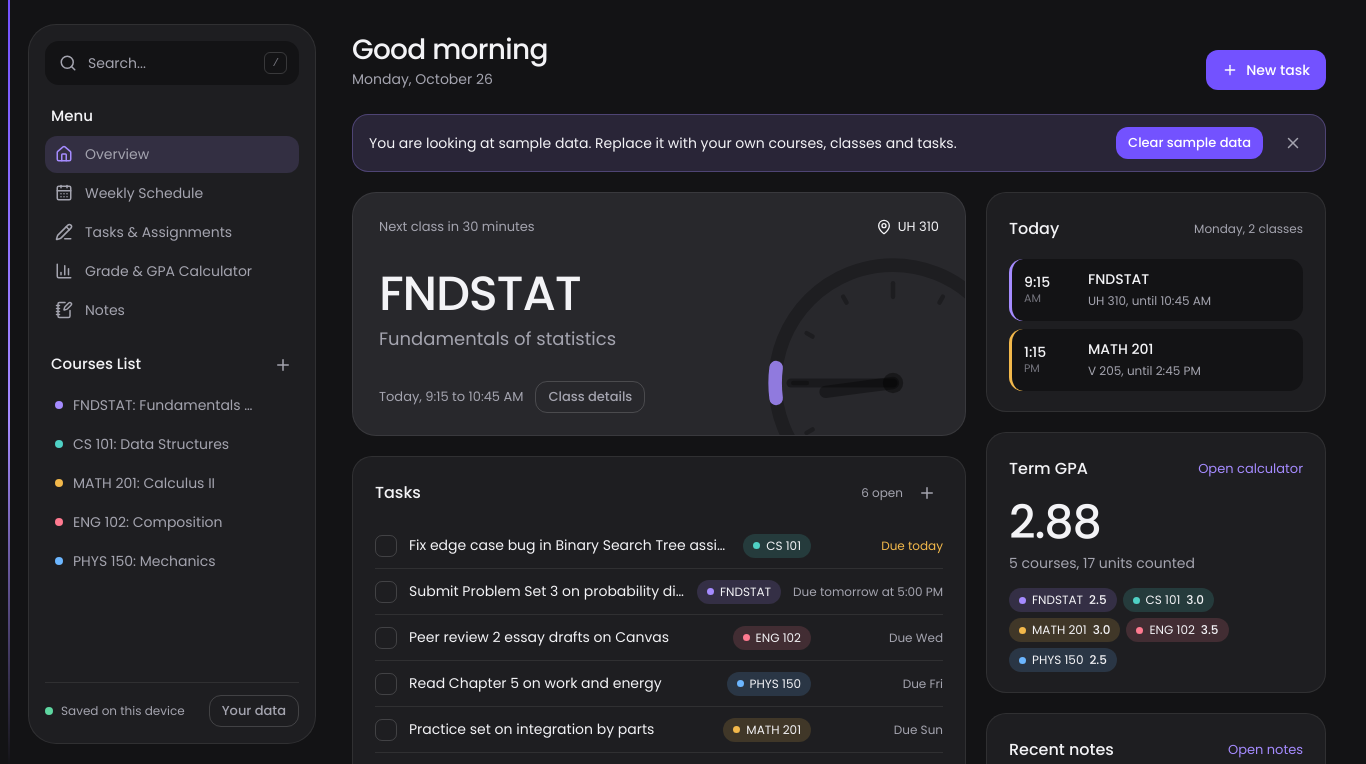
Test: Overview › clears the sample data from the banner, with undo
Click the button "Clear sample data" at (1190, 143), box [1116,127,1263,159]
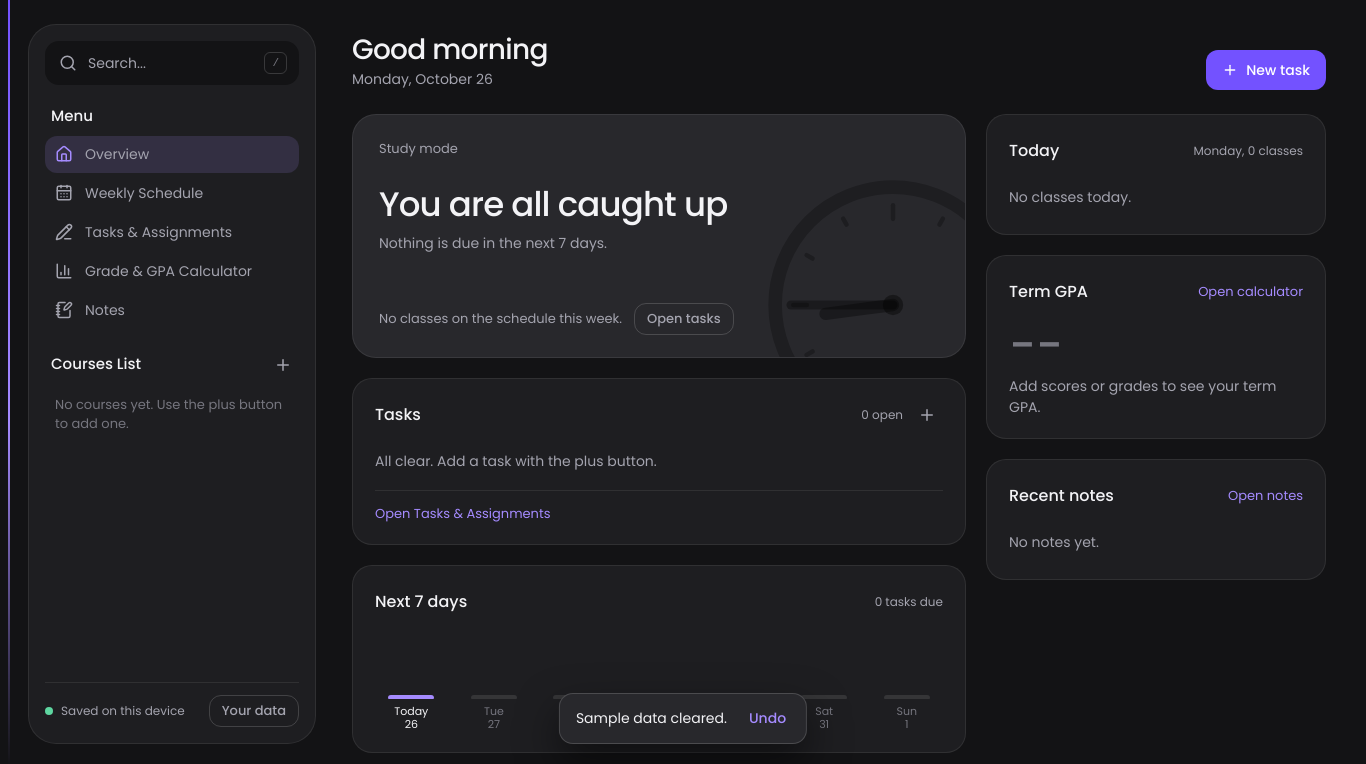
Expected: the text "looking at sample data" is gone
Expected: the text "All clear. Add a task with the plus button." is shown, [375,451,657,471]
Expected: the text "Sample data cleared." is shown, [576,708,727,729]
Click the button "Undo" at (768, 718), box [741,704,794,733]
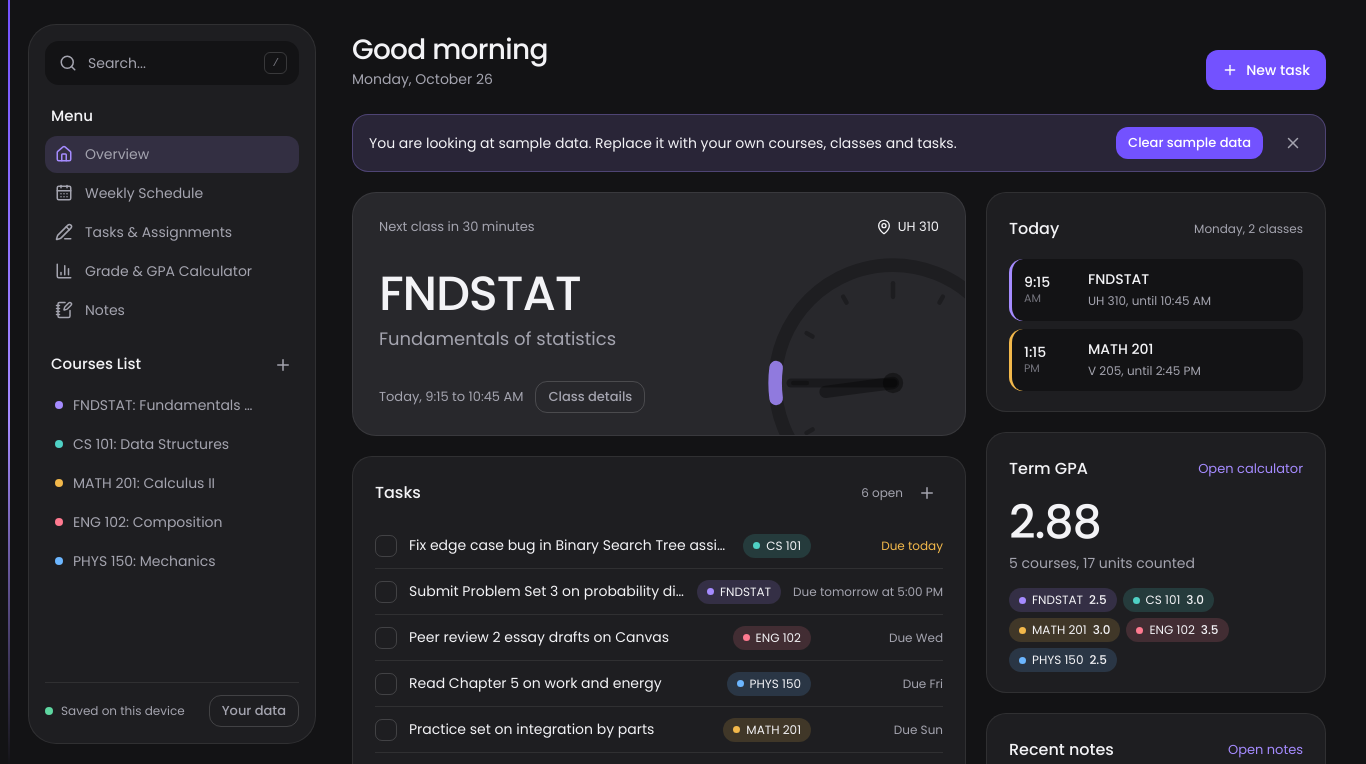
Expected: the text "6 open" is shown, [861,485,903,501]
